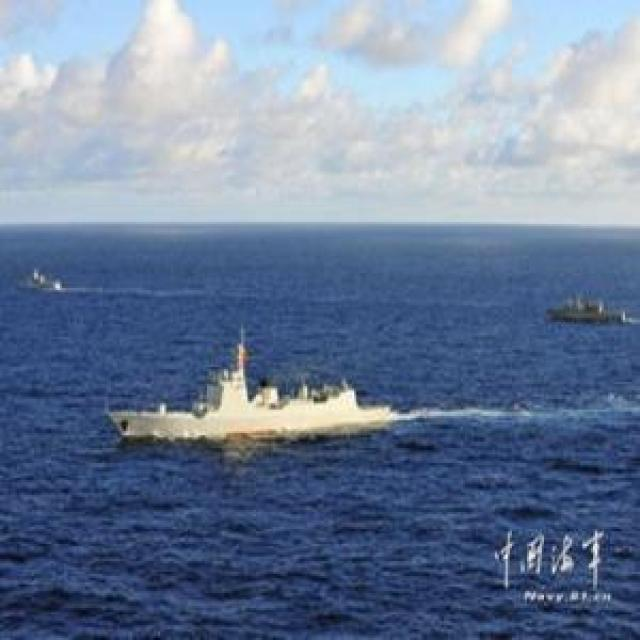navalvessels: (108, 344, 378, 448), (540, 292, 625, 329), (17, 266, 65, 289)
